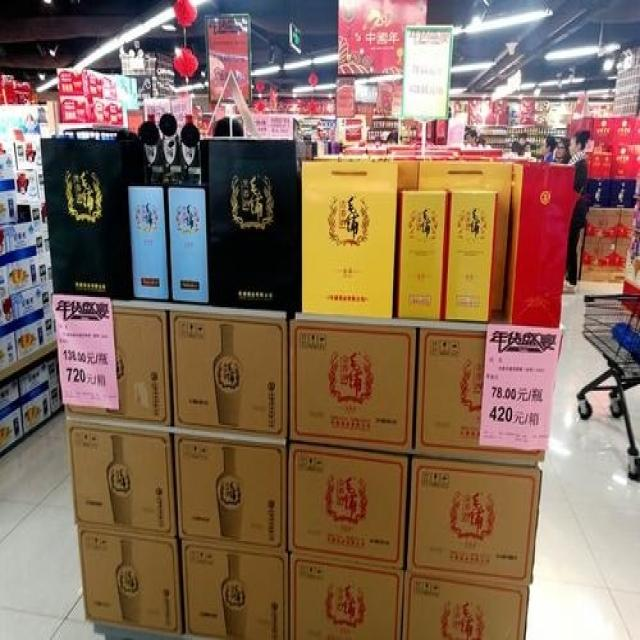box: (416, 328, 562, 459), (41, 138, 146, 299), (200, 140, 300, 309), (408, 459, 541, 584), (291, 319, 416, 449), (302, 160, 398, 317), (288, 444, 408, 567), (170, 312, 287, 437), (419, 160, 512, 309), (494, 157, 575, 326), (54, 309, 170, 425), (174, 435, 287, 551), (65, 423, 175, 538), (77, 526, 182, 633), (182, 541, 288, 640), (291, 555, 402, 640), (402, 570, 530, 640), (445, 186, 499, 321), (394, 189, 448, 319), (166, 184, 210, 302), (129, 183, 170, 300), (13, 309, 45, 358), (22, 381, 50, 433), (8, 246, 38, 294), (19, 355, 50, 398), (0, 399, 23, 452), (581, 236, 616, 270), (12, 285, 44, 319), (88, 97, 123, 126), (82, 70, 116, 99), (586, 208, 620, 236), (0, 372, 19, 416), (0, 179, 18, 224), (10, 222, 36, 253), (0, 323, 17, 370), (586, 147, 613, 176), (18, 205, 42, 237), (60, 96, 88, 123), (611, 177, 635, 208), (585, 177, 609, 207), (14, 140, 37, 171), (613, 145, 635, 177), (15, 171, 38, 201), (58, 68, 82, 94), (398, 160, 419, 189), (593, 118, 613, 145), (614, 239, 631, 270), (614, 118, 635, 143), (618, 208, 635, 237), (49, 384, 63, 415), (0, 254, 9, 299), (0, 297, 13, 326), (0, 225, 10, 254), (36, 236, 46, 265), (45, 312, 54, 343), (38, 263, 47, 292), (49, 358, 58, 384), (44, 292, 51, 316)
